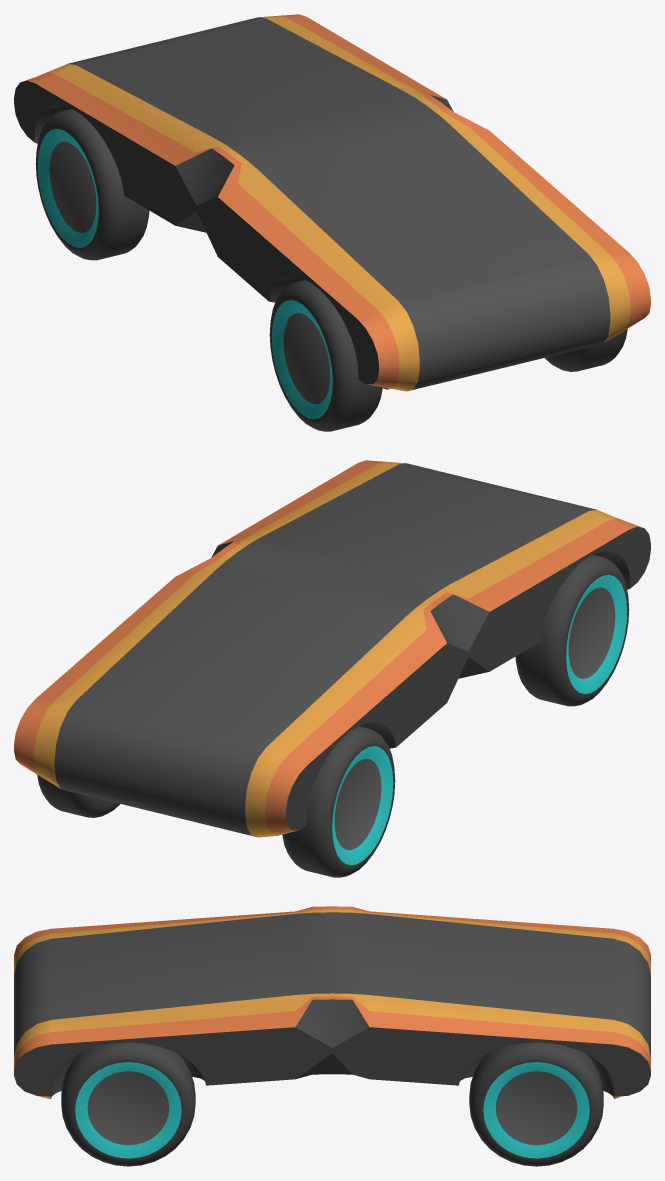
Rendered from kosubandiAraba.fbx.
3 renders of one model, top to bottom at view 1: azimuth 30°, elevation 25°; view 2: azimuth 150°, elevation 25°; view 3: azimuth 270°, elevation 25°, orthographic. The views are drawn at different scales.
Visible parts, largest first — view 1: kosuBandi, tekerler; view 2: kosuBandi, tekerler; view 3: kosuBandi, tekerler.
Boxes of the visible parts, <box> form: kosuBandi: <box>14,14,650,391</box>; tekerler: <box>35,108,627,431</box>; kosuBandi: <box>14,460,650,837</box>; tekerler: <box>37,554,629,877</box>; kosuBandi: <box>14,906,650,1099</box>; tekerler: <box>61,1042,603,1166</box>.
Size of the model in its own units: 300 by 174 by 645.
